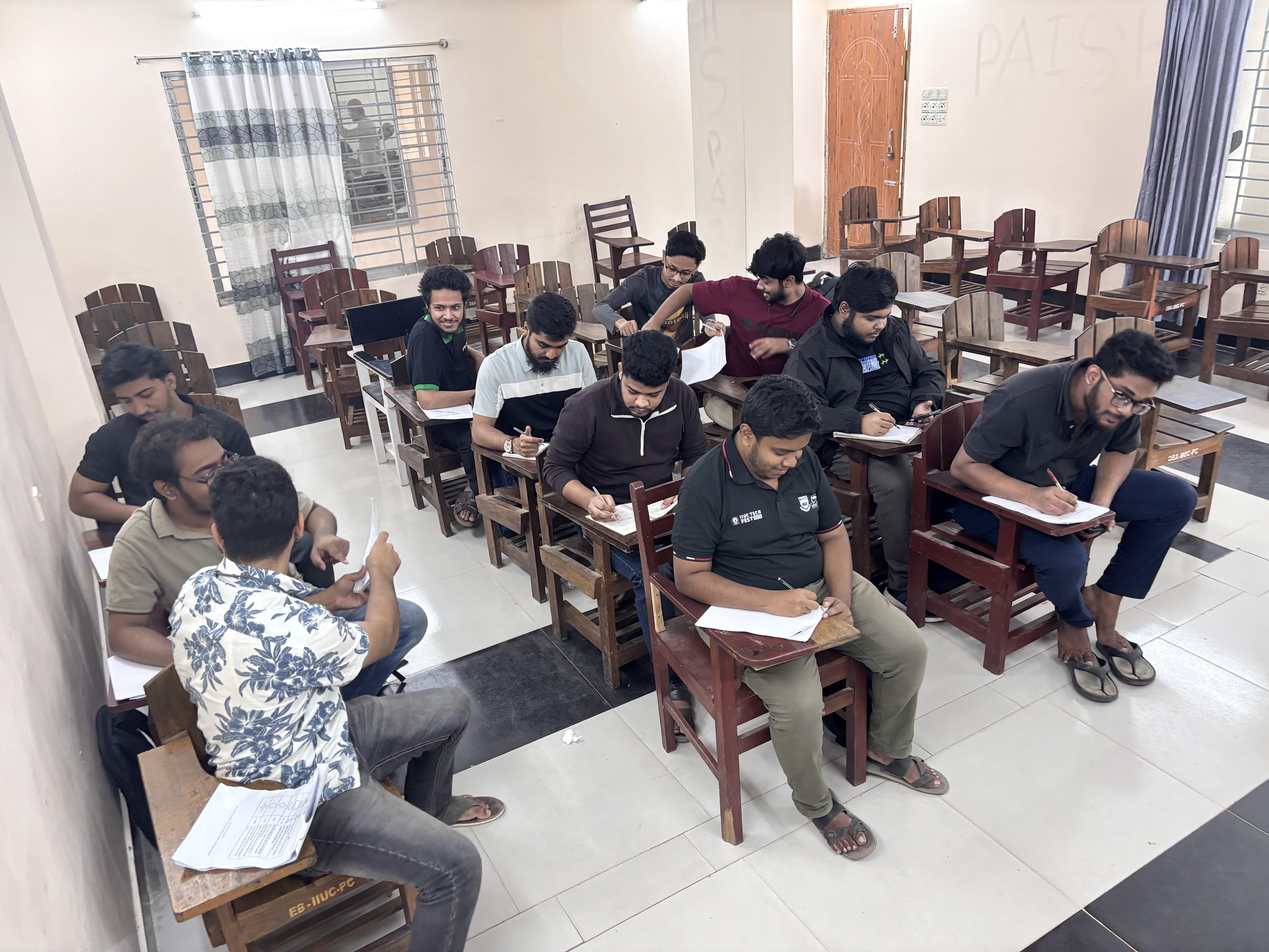exchanging_sheets: (113, 411, 445, 782), (602, 221, 808, 369)
no_cheating: (660, 380, 916, 799), (547, 340, 698, 568), (475, 289, 599, 478), (66, 345, 165, 528)
side_talking: (387, 260, 490, 439)
suspicious_moving: (949, 318, 1227, 636)
using_phone: (782, 274, 966, 460)
